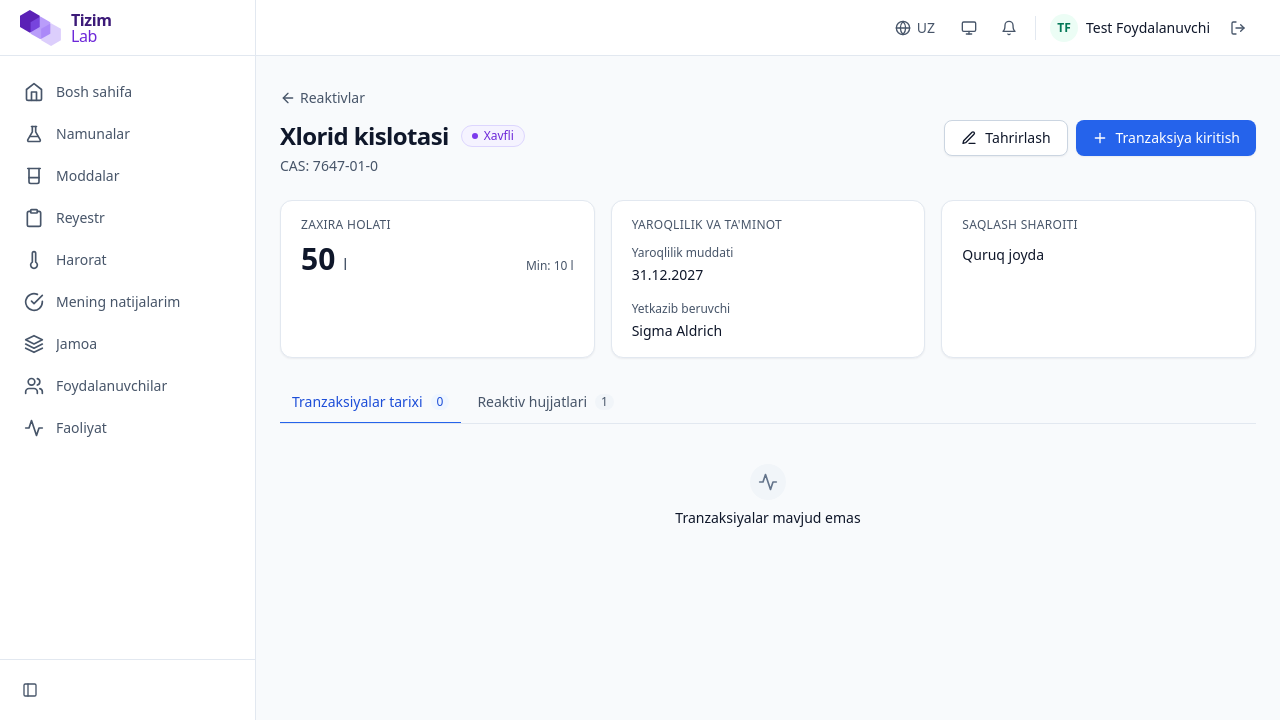
Scenario: Reagents Frontend (P7: /reagents, /reagents/:id, /reagents/journal, /expenses) › 4. /reagents/:id: hujjatlar tabiga o‘tganda hujjatlar ro‘yxati ko‘rsatiladi va yuklab olish mavjud
Click the tab "Reaktiv hujjatlari 1" at (546, 403), box [465,382,626,424]
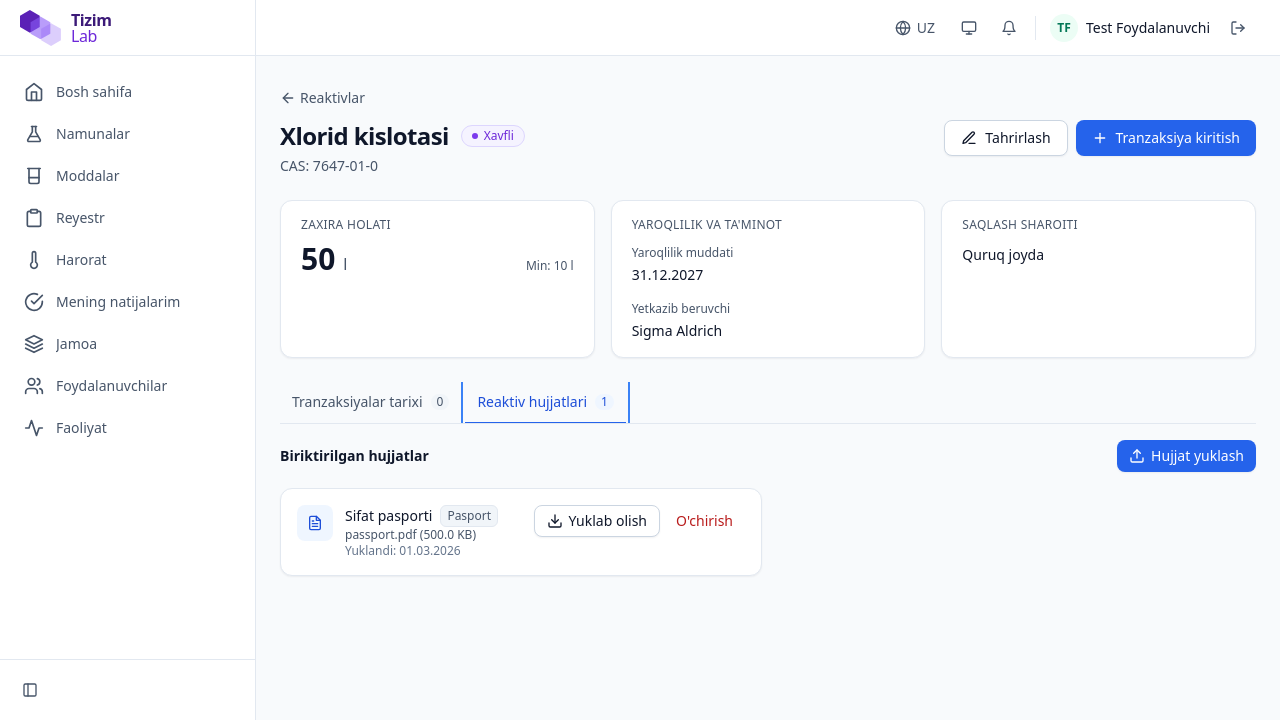
Expected: the text "Sifat pasporti" is shown, [345,506,432,526]
Expected: the text "passport.pdf (500.0 KB)" is shown, [345,527,498,543]
Expected: the button "Yuklab olish" is shown, [534,505,660,537]
